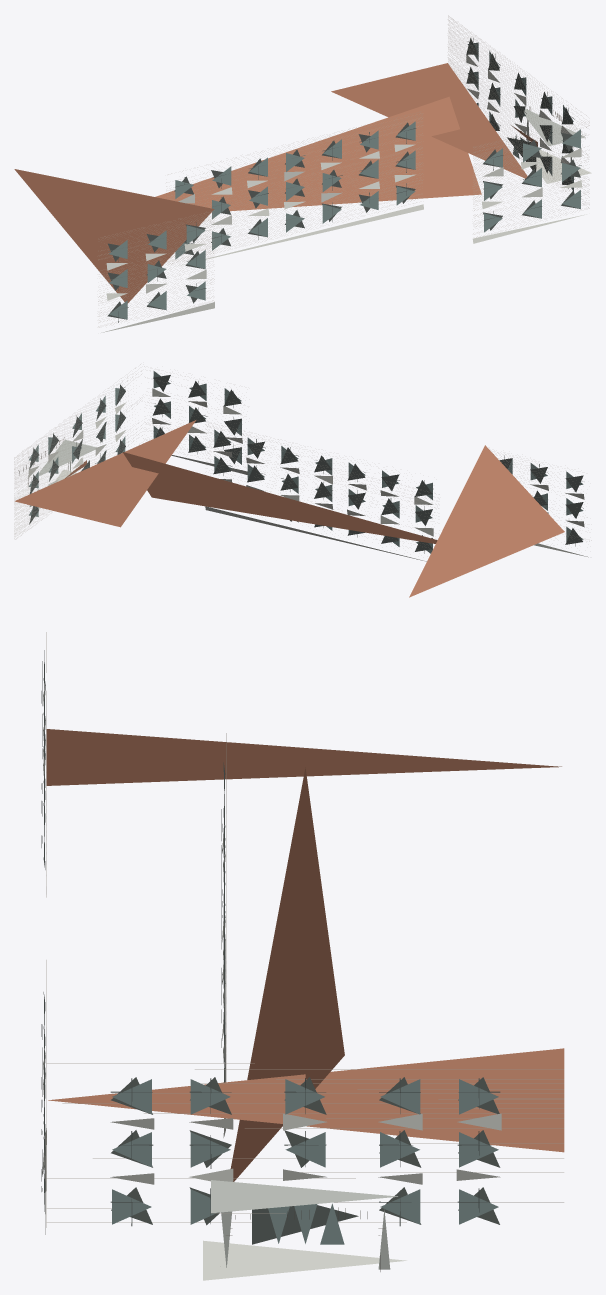
3 views of the same model, one above another, from view 1: azimuth 30°, elevation 25°; view 2: azimuth 150°, elevation 25°; view 3: azimuth 270°, elevation 25° (orthographic). The views are drawn at different scales.
Parts seen in each view (by area): view 1: 化学楼 · Chemistry red brick.002, 化学楼 · Chemistry glazing.002, 化学楼 · Chemistry pale panels.002, 化学楼 · Chemistry dark frames.002, 化学楼 · Chemistry joints.002, 化学楼 · Chemistry canopy tile.002; view 2: 化学楼 · Chemistry red brick.002, 化学楼 · Chemistry dark frames.002, 化学楼 · Chemistry pale panels.002, 化学楼 · Chemistry glazing.002, 化学楼 · Chemistry joints.002, 化学楼 · Chemistry canopy tile.002; view 3: 化学楼 · Chemistry red brick.002, 化学楼 · Chemistry glazing.002, 化学楼 · Chemistry pale panels.002, 化学楼 · Chemistry dark frames.002, 化学楼 · Chemistry joints.002, 化学楼 · Chemistry canopy tile.002.
Part boxes in pixels (x1=…): 化学楼 · Chemistry red brick.002: x1=14, y1=63, x2=537, y2=303; 化学楼 · Chemistry glazing.002: x1=109, y1=42, x2=580, y2=319; 化学楼 · Chemistry pale panels.002: x1=101, y1=54, x2=591, y2=332; 化学楼 · Chemistry dark frames.002: x1=107, y1=38, x2=581, y2=322; 化学楼 · Chemistry joints.002: x1=98, y1=15, x2=589, y2=327; 化学楼 · Chemistry canopy tile.002: x1=524, y1=108, x2=585, y2=161; 化学楼 · Chemistry red brick.002: x1=14, y1=420, x2=564, y2=597; 化学楼 · Chemistry dark frames.002: x1=28, y1=375, x2=583, y2=553; 化学楼 · Chemistry pale panels.002: x1=28, y1=388, x2=588, y2=561; 化学楼 · Chemistry glazing.002: x1=29, y1=371, x2=583, y2=553; 化学楼 · Chemistry joints.002: x1=14, y1=364, x2=591, y2=541; 化学楼 · Chemistry canopy tile.002: x1=29, y1=439, x2=96, y2=507; 化学楼 · Chemistry red brick.002: x1=46, y1=729, x2=564, y2=1181; 化学楼 · Chemistry glazing.002: x1=112, y1=1079, x2=498, y2=1244; 化学楼 · Chemistry pale panels.002: x1=42, y1=684, x2=501, y2=1280; 化学楼 · Chemistry dark frames.002: x1=41, y1=650, x2=500, y2=1244; 化学楼 · Chemistry joints.002: x1=46, y1=632, x2=563, y2=1271; 化学楼 · Chemistry canopy tile.002: x1=211, y1=1180, x2=397, y2=1269.
Size of the model in its own units: 71.6 by 12.6 by 33.12.
